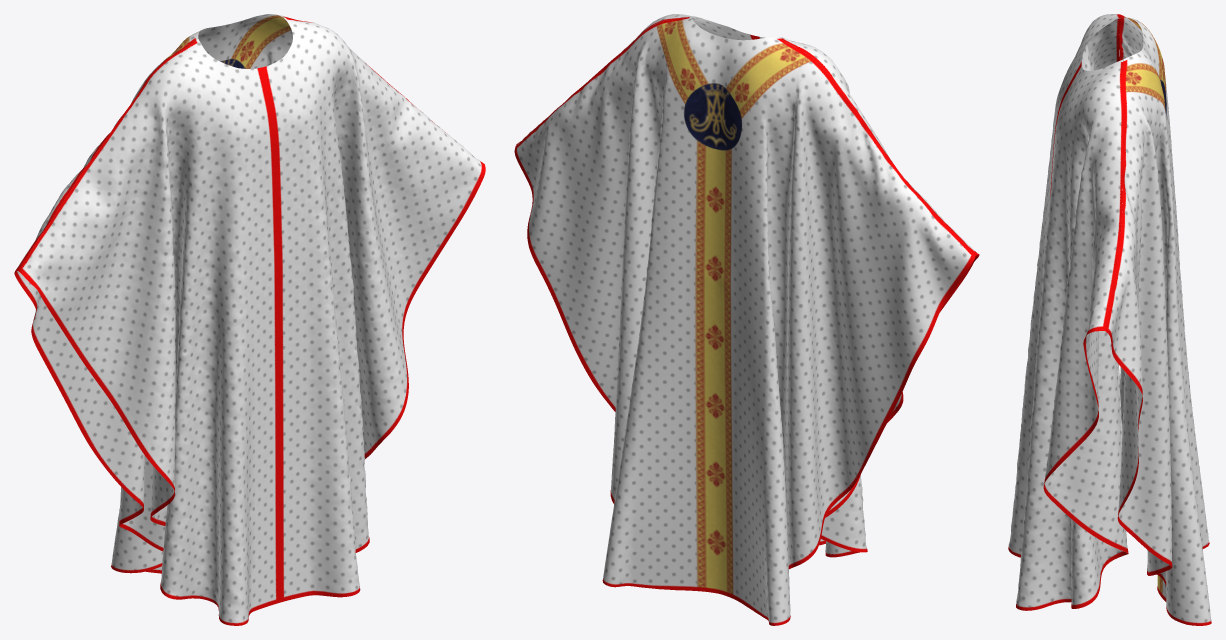
The model's file is Ghotic.gltf.
The picture shows the model from 3 angles, left to right: view 1: azimuth 30°, elevation 25°; view 2: azimuth 150°, elevation 25°; view 3: azimuth 270°, elevation 25°; orthographic projection.
Visible parts, largest first — view 1: front, back ok; view 2: back ok, front; view 3: front, back ok.
Part boxes in pixels (left/top/right/bottom): front: left=18, top=17, right=485, bottom=625; back ok: left=14, top=14, right=298, bottom=573; back ok: left=514, top=16, right=975, bottom=625; front: left=516, top=14, right=979, bottom=557; front: left=1008, top=14, right=1128, bottom=610; back ok: left=1105, top=14, right=1211, bottom=625.
Bounding box in the file's own units: 11.96 × 13.73 × 4.57.
2 materials, 2 textured.
